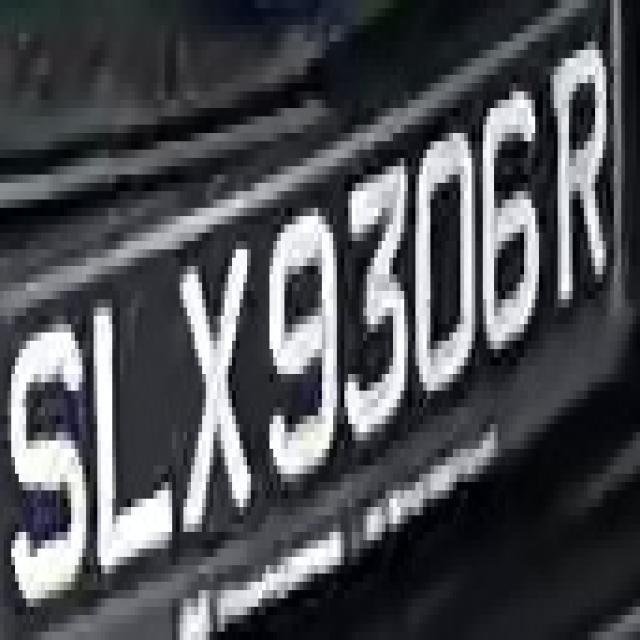0: (408, 108, 475, 416)
3: (337, 150, 419, 448)
6: (468, 58, 554, 374)
9: (251, 183, 348, 507)
L: (82, 283, 187, 590)
R: (550, 41, 618, 382)
S: (7, 274, 90, 624)
X: (164, 208, 266, 557)
